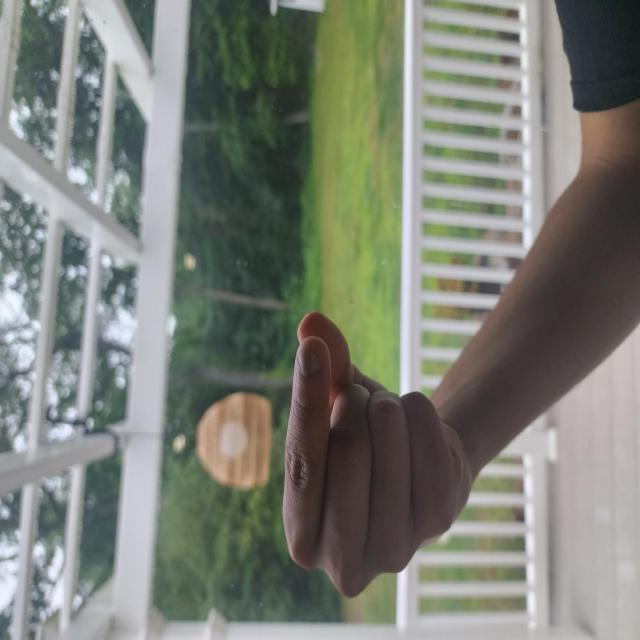Q: (28, 372, 248, 634)
